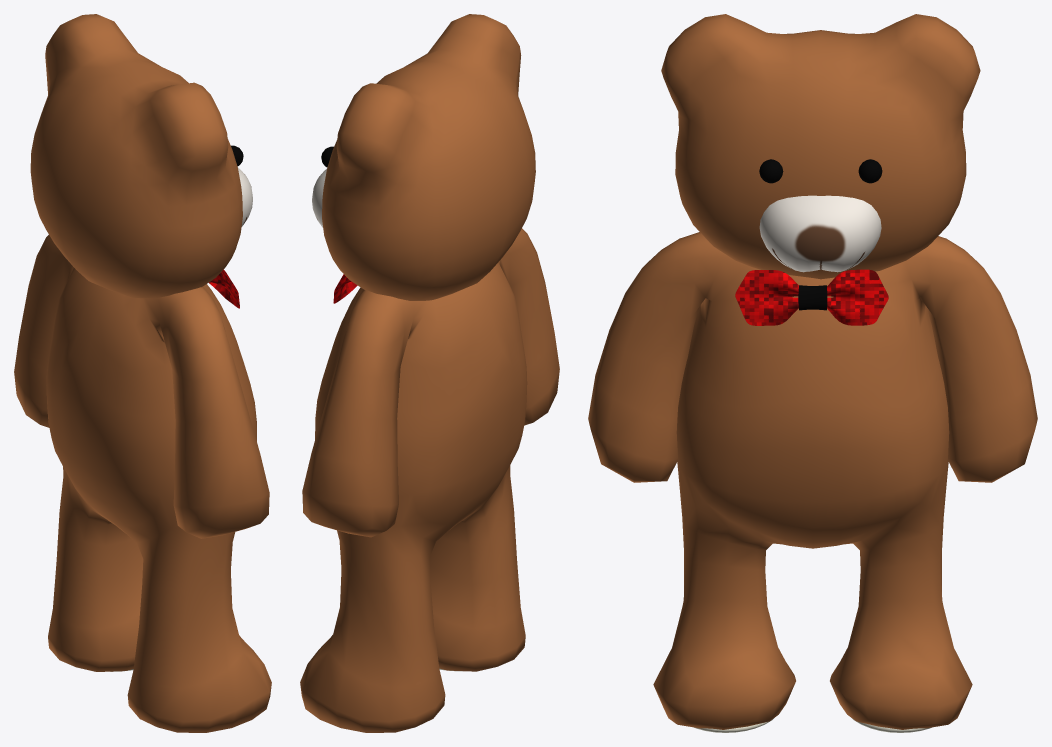
File: teddy.fbx
The picture shows the model from 3 angles, left to right: view 1: azimuth 30°, elevation 25°; view 2: azimuth 150°, elevation 25°; view 3: azimuth 270°, elevation 25°; orthographic projection. The views are drawn at different scales.
Parts seen in each view (by area): view 1: teddyBody, teddyHead, necktie, teddyNose; view 2: teddyBody, teddyHead, teddyNose; view 3: teddyBody, teddyHead, teddyNose, necktie, teddyEye, necktieCylinder.
Part boxes in pixels (left/top/right/bottom): teddyBody: left=14, top=235, right=271, bottom=732; teddyHead: left=30, top=14, right=242, bottom=298; necktie: left=209, top=269, right=239, bottom=308; teddyNose: left=238, top=167, right=252, bottom=226; teddyBody: left=300, top=228, right=559, bottom=732; teddyHead: left=322, top=14, right=535, bottom=300; teddyNose: left=312, top=169, right=326, bottom=227; teddyBody: left=588, top=232, right=1037, bottom=729; teddyHead: left=661, top=14, right=980, bottom=279; teddyNose: left=759, top=195, right=881, bottom=272; necktie: left=735, top=269, right=888, bottom=325; teddyEye: left=759, top=159, right=882, bottom=183; necktieCylinder: left=798, top=285, right=827, bottom=310.
Bounding box in the file's own units: 0.0887 × 0.1711 × 0.2878.
